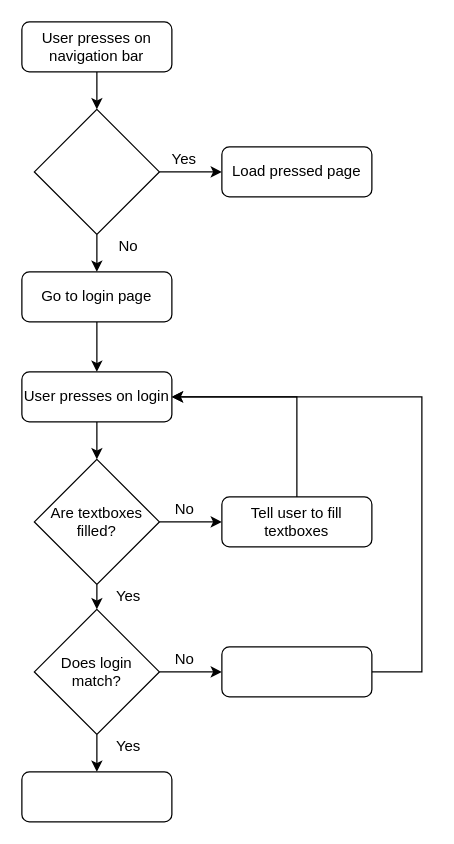
The diagram is 454 pixels wide and 844 high, and some of its shapes have lost their labels. The centre of each missing label's shape, as x and y in pixels:
"Is user already logged in?" belongs at pixel 96 171.
"Load overview page" belongs at pixel 96 796.
"Tell user that the login is wrong" belongs at pixel 296 671.
